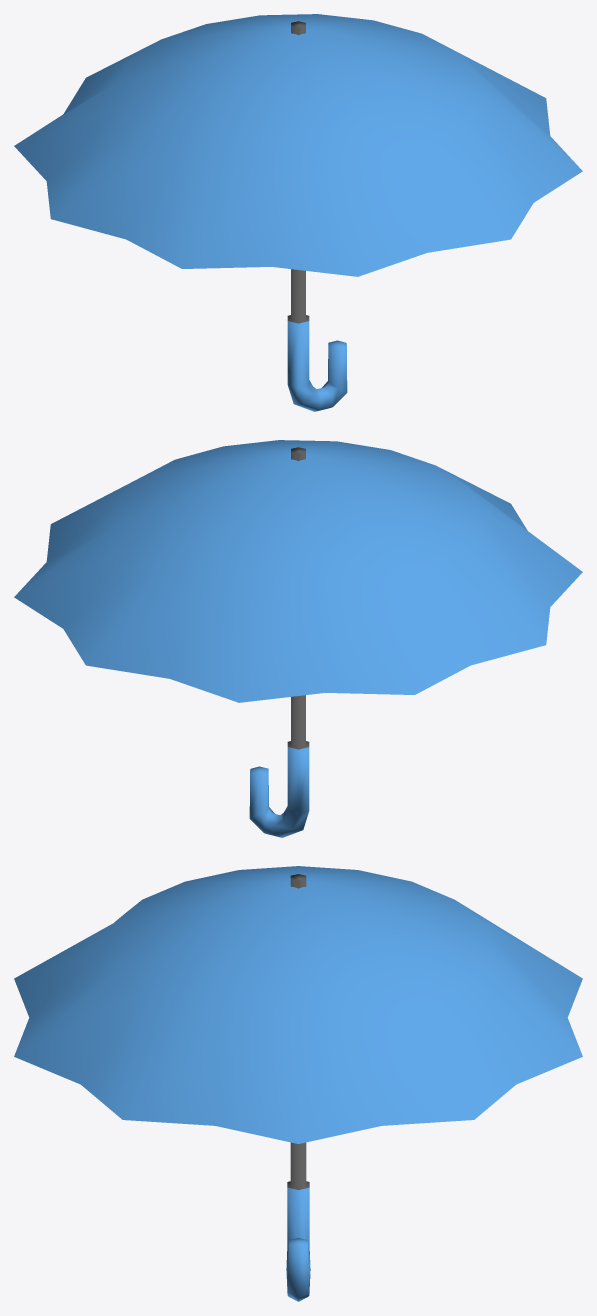
The model's file is umbrella.glb.
The picture shows the model from 3 angles, top to bottom: view 1: azimuth 30°, elevation 25°; view 2: azimuth 150°, elevation 25°; view 3: azimuth 270°, elevation 25°; orthographic projection. The views are drawn at different scales.
Visible parts, largest first — view 1: Umbrella.1; view 2: Umbrella.1; view 3: Umbrella.1.
Part boxes in pixels (<box>): Umbrella.1: <box>14,14,582,411</box>; Umbrella.1: <box>14,440,582,837</box>; Umbrella.1: <box>14,866,582,1301</box>.
Size of the model in its own units: 280 by 211 by 266.
